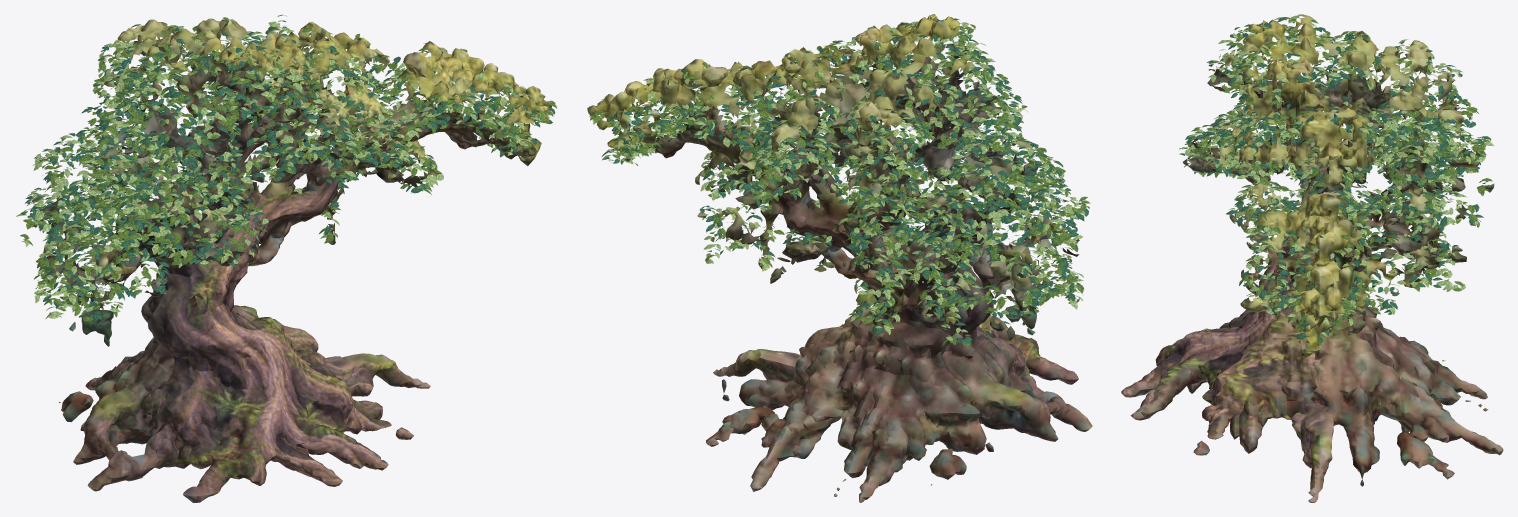
Rendered from elder-tree-porous.glb.
3 views of the same model, side by side, from view 1: azimuth 30°, elevation 25°; view 2: azimuth 150°, elevation 25°; view 3: azimuth 270°, elevation 25° (orthographic). The views are drawn at different scales.
Visible parts, largest first — view 1: Elder tree • original sculpt, Elder • porous leaf crown; view 2: Elder tree • original sculpt, Elder • porous leaf crown; view 3: Elder tree • original sculpt, Elder • porous leaf crown.
Part boxes in pixels (x1,y1,x2,y2): Elder tree • original sculpt: [30, 14, 551, 502]; Elder • porous leaf crown: [16, 15, 556, 321]; Elder tree • original sculpt: [587, 14, 1092, 502]; Elder • porous leaf crown: [589, 18, 1090, 347]; Elder tree • original sculpt: [1121, 15, 1503, 502]; Elder • porous leaf crown: [1179, 14, 1494, 345].
Bounding box in the file's own units: 15.7 × 12.4 × 10.76.
Materials: 2 (2 with a texture image).
